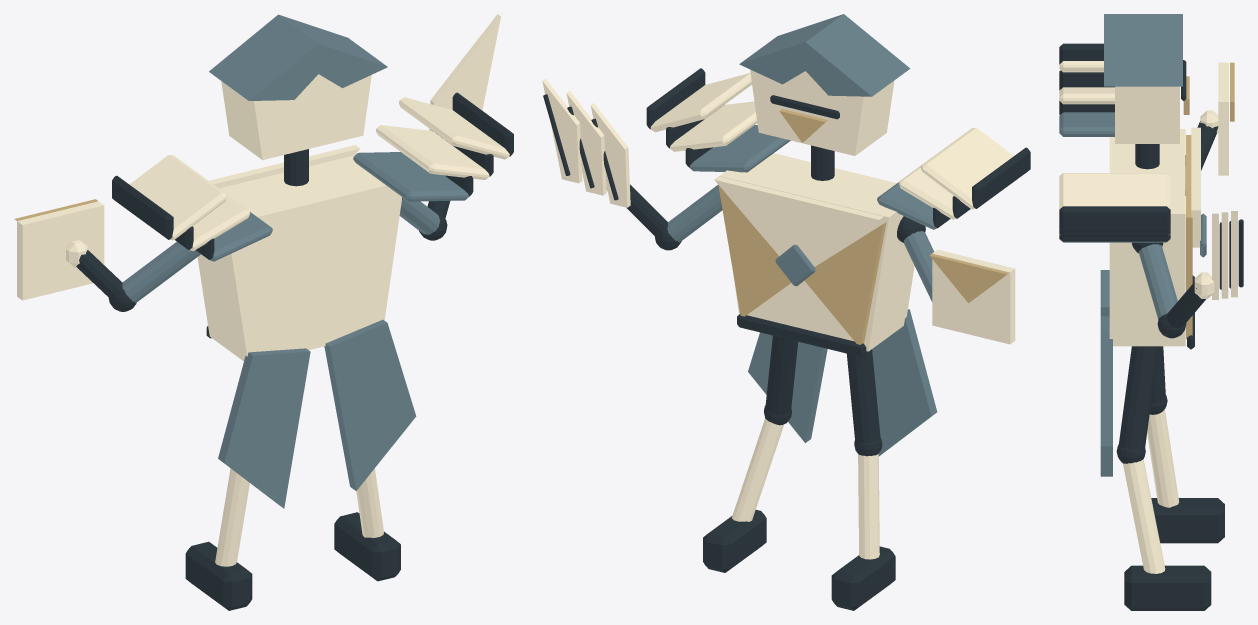
The picture shows the model from 3 angles, left to right: view 1: azimuth 30°, elevation 25°; view 2: azimuth 150°, elevation 25°; view 3: azimuth 270°, elevation 25°; orthographic projection. The views are drawn at different scales.
Visible parts, largest first — view 1: envelope_torso, right_long_tail, left_long_tail, folded_cap, envelope_head, held_dispatch_envelope, left_tray_shelf_2, right_tray_shelf_0, right_tray_shelf_1, left_shoe, right_shoe, right_tray_shelf_2 (+14 smaller); view 2: envelope_torso, folded_cap, envelope_head, sealed_top_flap, left_long_tail, envelope_left_fold, held_dispatch_envelope, envelope_right_fold, left_tray_shelf_2, right_long_tail, left_shoe, right_shoe (+22 smaller); view 3: envelope_torso, folded_cap, right_tray_shelf_2, right_shoe, envelope_head, left_shoe, right_tray_outer_lip_2, right_thigh, right_shin, right_long_tail, left_shin, right_arm_upper (+27 smaller).
Part boxes in pixels (x1,y1,x2,y2): envelope_torso: [197, 155, 402, 361]; right_long_tail: [324, 319, 416, 490]; left_long_tail: [218, 348, 310, 508]; folded_cap: [209, 14, 387, 100]; envelope_head: [221, 74, 371, 160]; held_dispatch_envelope: [17, 201, 104, 300]; left_tray_shelf_2: [129, 155, 226, 240]; right_tray_shelf_0: [353, 152, 468, 201]; right_tray_shelf_1: [376, 125, 489, 179]; left_shoe: [185, 541, 252, 610]; right_shoe: [334, 512, 400, 581]; right_tray_shelf_2: [398, 97, 509, 159]; envelope_torso: [719, 153, 914, 351]; folded_cap: [739, 14, 910, 96]; envelope_head: [750, 69, 894, 155]; sealed_top_flap: [714, 176, 883, 265]; left_long_tail: [872, 309, 937, 456]; envelope_left_fold: [804, 222, 886, 344]; held_dispatch_envelope: [932, 249, 1015, 344]; envelope_right_fold: [718, 185, 791, 316]; left_tray_shelf_2: [920, 127, 1013, 209]; right_long_tail: [748, 332, 827, 443]; left_shoe: [831, 546, 895, 610]; right_shoe: [703, 509, 766, 572]; envelope_torso: [1109, 129, 1185, 346]; folded_cap: [1104, 14, 1182, 86]; right_tray_shelf_2: [1059, 173, 1170, 209]; right_shoe: [1124, 565, 1211, 610]; envelope_head: [1115, 86, 1179, 143]; left_shoe: [1151, 498, 1224, 543]; right_tray_outer_lip_2: [1059, 206, 1170, 231]; right_thigh: [1119, 346, 1158, 449]; right_shin: [1123, 459, 1165, 573]; right_long_tail: [1100, 316, 1112, 476]; left_shin: [1147, 409, 1179, 507]; right_arm_upper: [1139, 244, 1177, 319].
Bounding box in the file's own units: 2.02 × 2.25 × 0.679.
